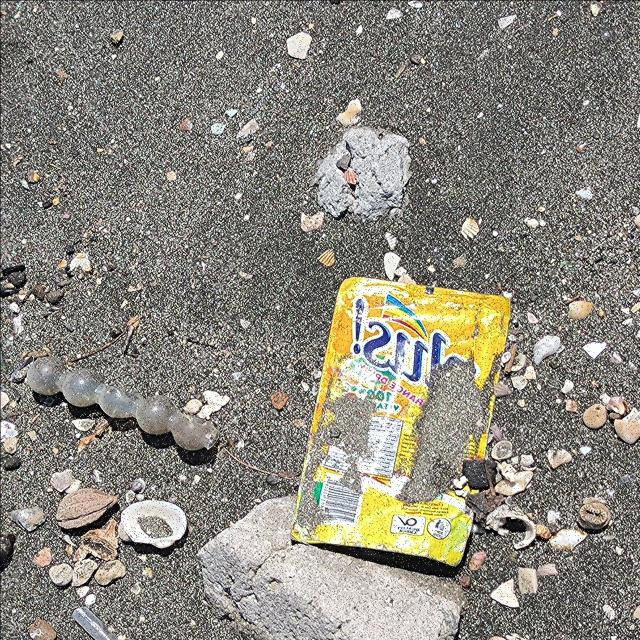plastic_waste: (283, 279, 513, 568)
